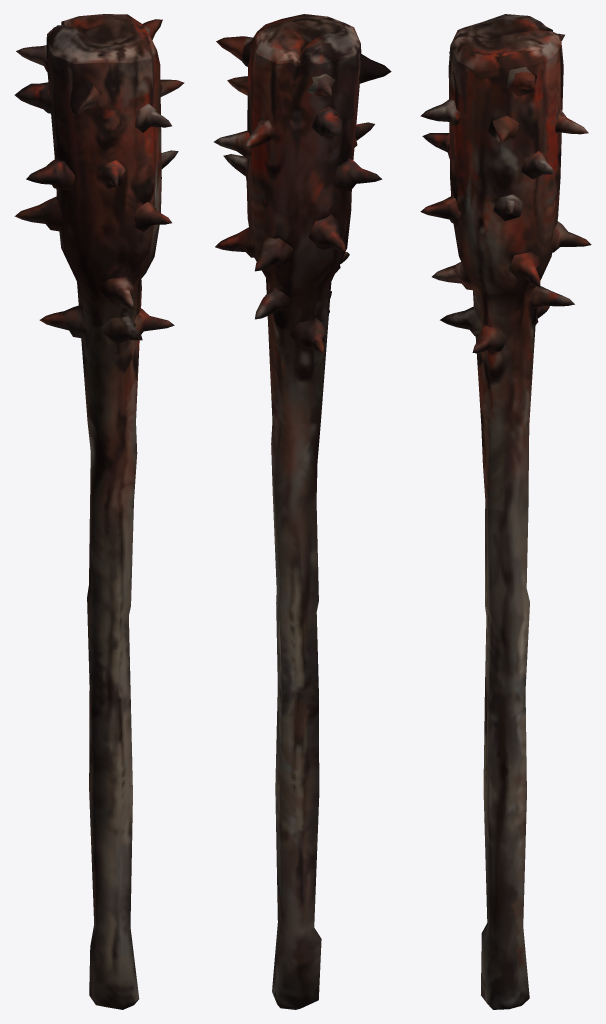
File: weapon-blacksmith-s-folly.glb
3 renders of one model, left to right at view 1: azimuth 30°, elevation 25°; view 2: azimuth 150°, elevation 25°; view 3: azimuth 270°, elevation 25°, orthographic.
Visible parts, largest first — view 1: snakeLegMutantClubEnemy_MDL_q; view 2: snakeLegMutantClubEnemy_MDL_q; view 3: snakeLegMutantClubEnemy_MDL_q.
Boxes of the visible parts, box(x1,y1,x2,y2) form: snakeLegMutantClubEnemy_MDL_q: box(14, 14, 184, 1009); snakeLegMutantClubEnemy_MDL_q: box(214, 14, 391, 1009); snakeLegMutantClubEnemy_MDL_q: box(420, 14, 591, 1009).
Bounding box in the file's own units: 0.3431 × 2.05 × 0.3283.
Materials: 1 (1 with a texture image).
